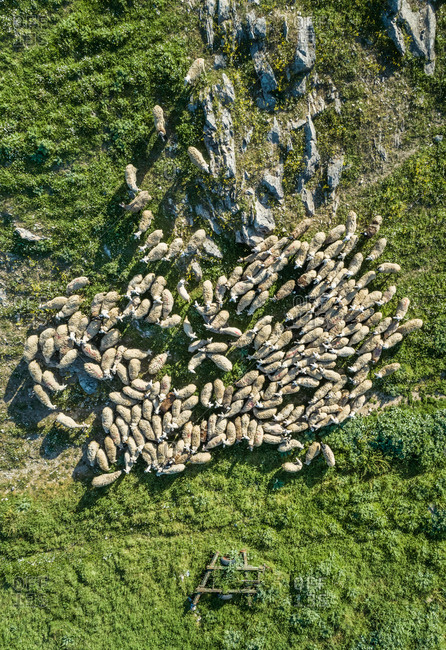sheep: (204, 307, 231, 333), (186, 145, 209, 175), (123, 189, 150, 214), (138, 228, 164, 253), (31, 383, 55, 410), (284, 300, 312, 323), (55, 412, 88, 431), (148, 348, 172, 374), (152, 103, 169, 139), (272, 279, 297, 303), (91, 471, 120, 491), (264, 330, 293, 350), (100, 326, 124, 350), (323, 223, 347, 247), (168, 408, 194, 430), (249, 289, 271, 315), (234, 290, 256, 316), (134, 209, 153, 239), (150, 274, 169, 304), (100, 307, 121, 334), (39, 293, 67, 313), (310, 381, 334, 404), (307, 230, 326, 259), (349, 378, 374, 400), (338, 235, 360, 260), (184, 56, 204, 83), (19, 334, 38, 362), (253, 323, 272, 351), (252, 234, 280, 253), (184, 228, 207, 251), (159, 287, 176, 318), (393, 318, 424, 335), (142, 242, 167, 263), (65, 274, 90, 295), (300, 315, 326, 335), (108, 390, 140, 406), (67, 310, 83, 342), (13, 226, 43, 243), (359, 290, 382, 312), (230, 279, 253, 301), (326, 306, 348, 329), (208, 351, 232, 372), (349, 352, 373, 373), (202, 432, 227, 452), (367, 237, 387, 262), (375, 361, 402, 379), (282, 406, 305, 427), (123, 346, 153, 362), (335, 280, 355, 304), (314, 296, 338, 316), (298, 325, 323, 344), (392, 296, 411, 321), (315, 259, 334, 284), (151, 416, 169, 442), (245, 419, 259, 452), (222, 398, 244, 419), (187, 351, 208, 373), (57, 349, 80, 369), (133, 297, 153, 320), (164, 235, 183, 259), (235, 369, 259, 388), (130, 421, 145, 451), (83, 319, 101, 344), (380, 331, 405, 349), (144, 442, 160, 470), (336, 320, 362, 337), (331, 403, 352, 424), (241, 259, 262, 280), (355, 269, 377, 289), (123, 164, 138, 193), (343, 210, 358, 239), (265, 236, 289, 254), (101, 347, 114, 379), (181, 314, 197, 340), (304, 441, 321, 465), (188, 336, 212, 353), (291, 375, 320, 389), (213, 275, 228, 302), (313, 414, 338, 430), (329, 268, 349, 288), (81, 343, 102, 362), (283, 454, 305, 472), (111, 364, 129, 386), (103, 435, 117, 463), (278, 438, 306, 452), (295, 241, 309, 269), (268, 256, 291, 273), (316, 368, 342, 383), (28, 359, 44, 383), (87, 438, 100, 467), (155, 314, 180, 329), (260, 433, 291, 445), (202, 279, 215, 307), (259, 349, 285, 363), (114, 404, 132, 424), (197, 340, 227, 352), (176, 277, 191, 301), (374, 315, 392, 335), (258, 273, 278, 291), (243, 260, 261, 280), (230, 386, 252, 402), (101, 406, 114, 433), (171, 384, 198, 397), (201, 380, 214, 407), (109, 424, 123, 449), (377, 261, 402, 275), (157, 464, 186, 476), (189, 424, 201, 453), (214, 378, 226, 407), (170, 439, 185, 462), (84, 364, 103, 382), (274, 403, 293, 421), (261, 380, 278, 400), (223, 420, 236, 446), (256, 360, 282, 373), (187, 450, 211, 464), (254, 419, 266, 447), (323, 443, 337, 467), (159, 374, 172, 399), (116, 416, 128, 442), (127, 436, 138, 464), (206, 412, 217, 440), (146, 381, 162, 400), (130, 358, 142, 383), (218, 325, 242, 337), (242, 414, 253, 440), (286, 421, 308, 434), (140, 451, 152, 474), (198, 419, 209, 444), (329, 337, 350, 350), (235, 416, 244, 445), (98, 449, 110, 470), (311, 353, 338, 362), (132, 379, 153, 390), (121, 452, 131, 474), (172, 397, 181, 418)
